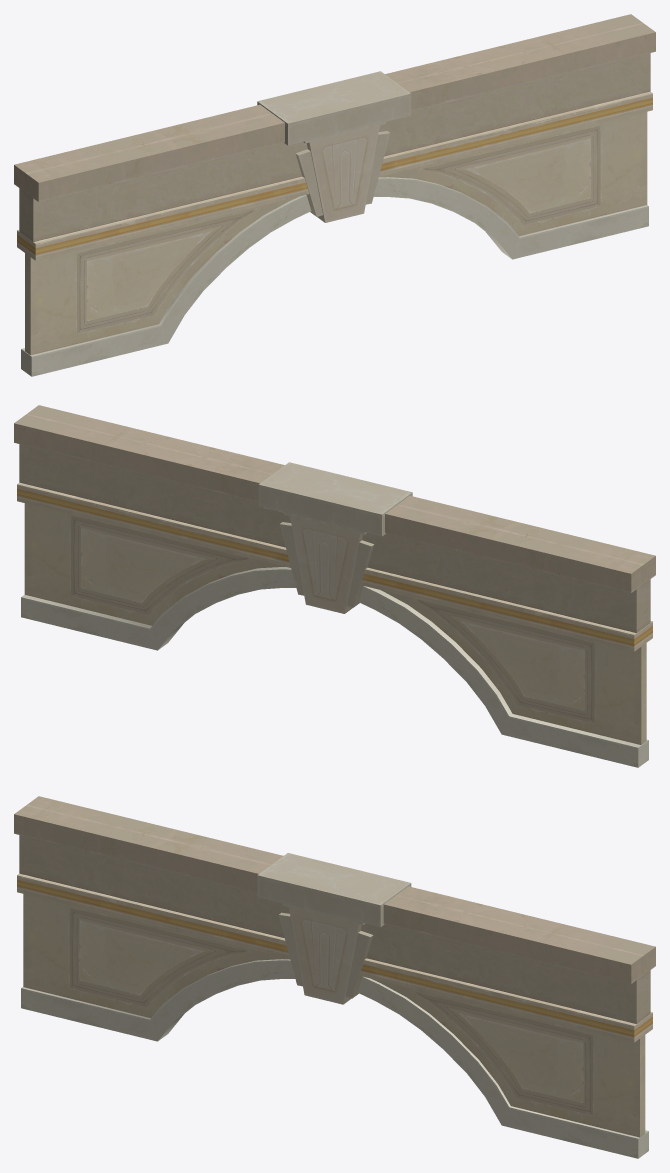
The model's file is Homeworld_Interior_Fd_Room_Wall_08_Vo.fbx.
The picture shows the model from 3 angles, top to bottom: view 1: azimuth 30°, elevation 25°; view 2: azimuth 150°, elevation 25°; view 3: azimuth 330°, elevation 25°; orthographic projection.
Visible parts, largest first — view 1: Homeworld_Interior_Fd_Room_Wall_08_Vo; view 2: Homeworld_Interior_Fd_Room_Wall_08_Vo; view 3: Homeworld_Interior_Fd_Room_Wall_08_Vo.
Part boxes in pixels (bbox=[...]): Homeworld_Interior_Fd_Room_Wall_08_Vo: bbox=[14, 14, 655, 376]; Homeworld_Interior_Fd_Room_Wall_08_Vo: bbox=[14, 405, 655, 767]; Homeworld_Interior_Fd_Room_Wall_08_Vo: bbox=[14, 796, 655, 1158].
Bounding box in the file's own units: 5 × 1.55 × 0.4298.
